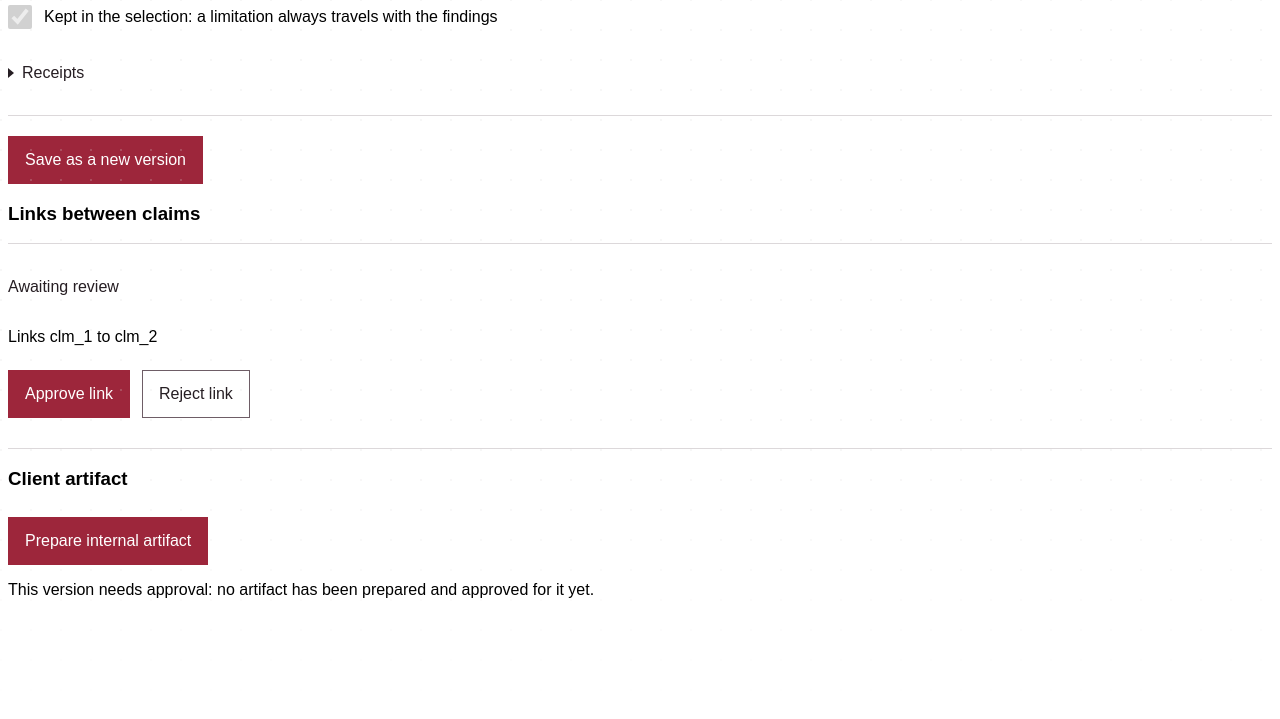
Test case: the working sequence › approval cannot be given while exported text has not been inspected
The image size is (1280, 719).
(page scrolled)
Click the button "Prepare internal artifact": (108, 541) [8,517,208,565]
(page scrolled)
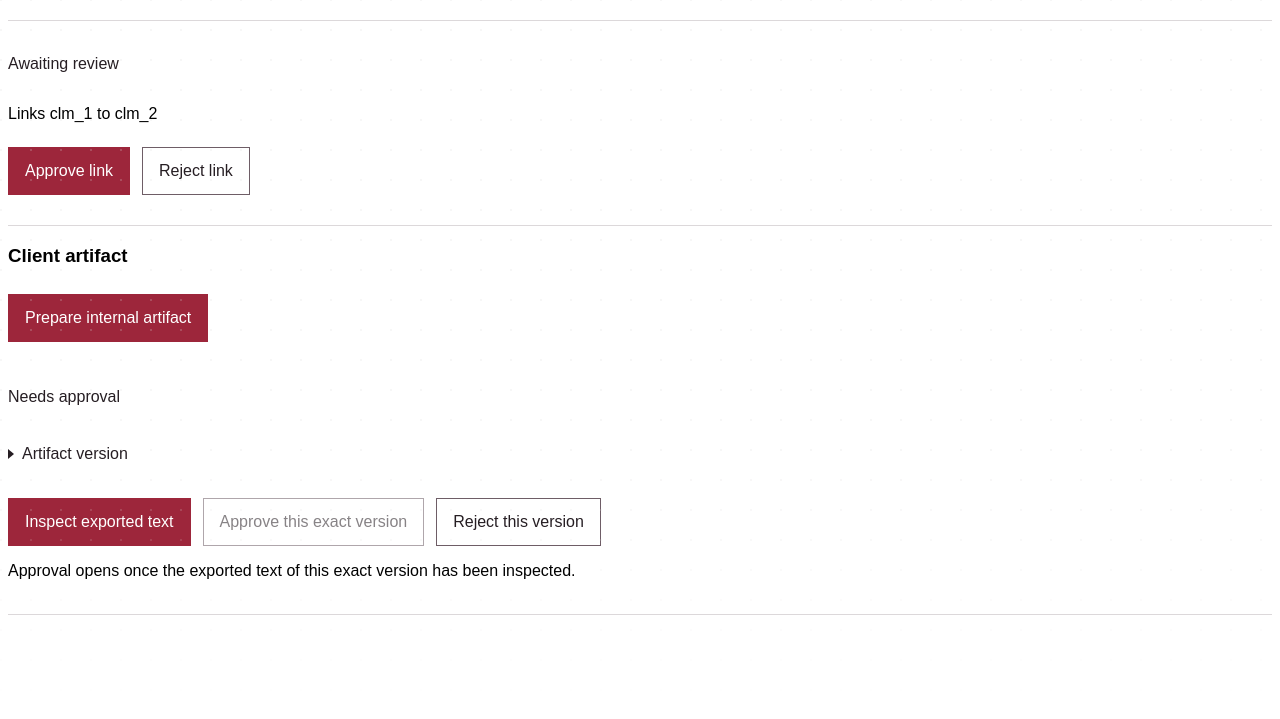
Expected: the button "Approve this exact version" is disabled, [202,498,424,546]
